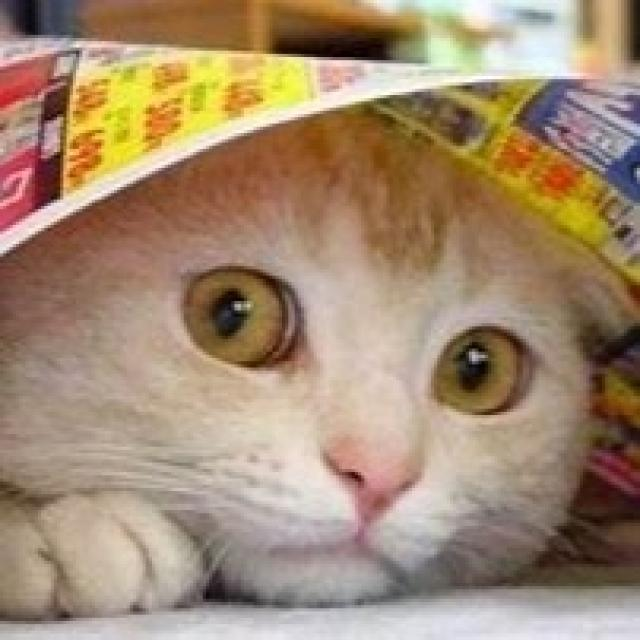Surprised: (135, 181, 538, 604)
